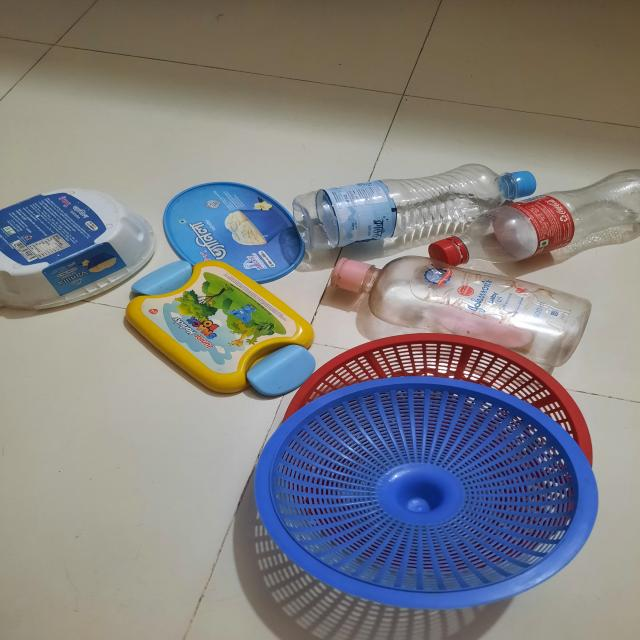Plastics: (280, 338, 604, 615), (0, 154, 302, 412), (305, 139, 640, 356)
